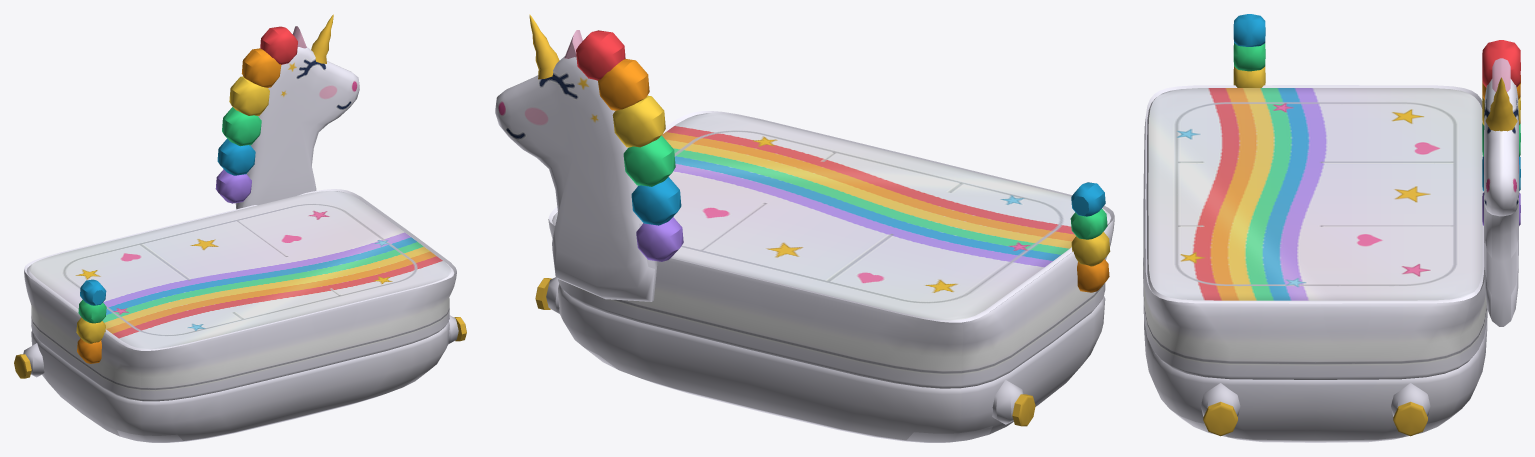
The model's file is pool_unicorn_float.glb.
3 views of the same model, side by side, from view 1: azimuth 30°, elevation 25°; view 2: azimuth 150°, elevation 25°; view 3: azimuth 270°, elevation 25° (orthographic). The views are drawn at different scales.
Parts seen in each view (by area): view 1: pool_unicorn_float_LOD0; view 2: pool_unicorn_float_LOD0; view 3: pool_unicorn_float_LOD0.
Boxes of the visible parts, x1,y1,x2,y2 form: pool_unicorn_float_LOD0: (14, 14, 466, 442); pool_unicorn_float_LOD0: (495, 14, 1114, 442); pool_unicorn_float_LOD0: (1143, 14, 1520, 442).
Size of the model in its own units: 14.06 by 9.98 by 9.15.
Materials: 1 (1 with a texture image).
